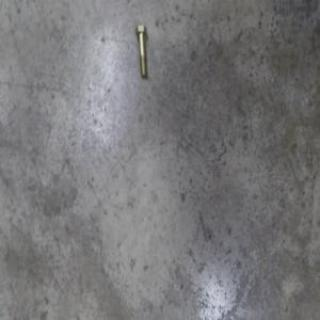Bolttrack_idkeyframe: (136, 27, 150, 80)
